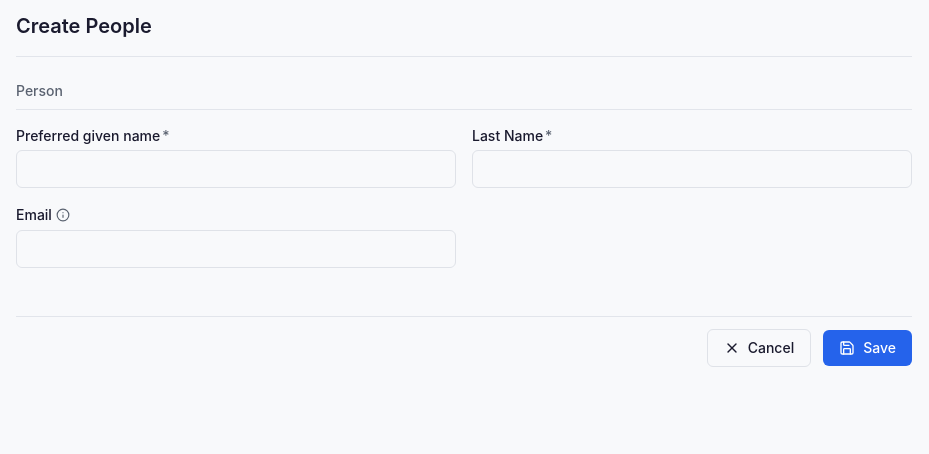
Create and base edit use full metadata and actual write contracts › retains the populated form after a failed save without an unhandled rejection
In the field labelled "Preferred given name*": (236, 169) [16,150,456,188], type "Keep input"
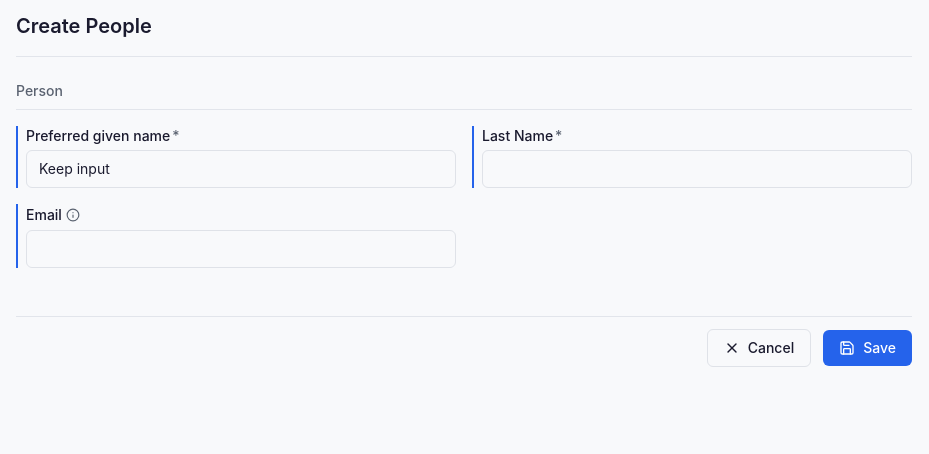
In the field labelled "Last Name*": (697, 169) [482,150,912,188], type "Sample"
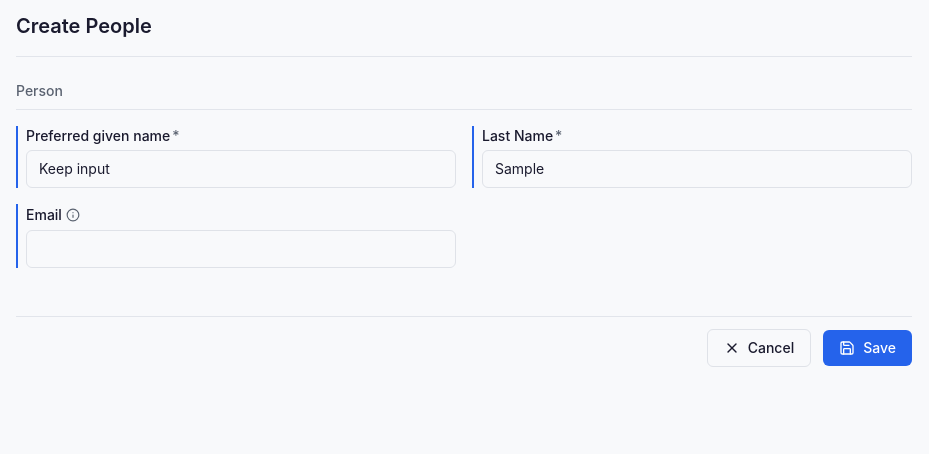
Click the button "Save": (868, 348) [823,330,912,366]
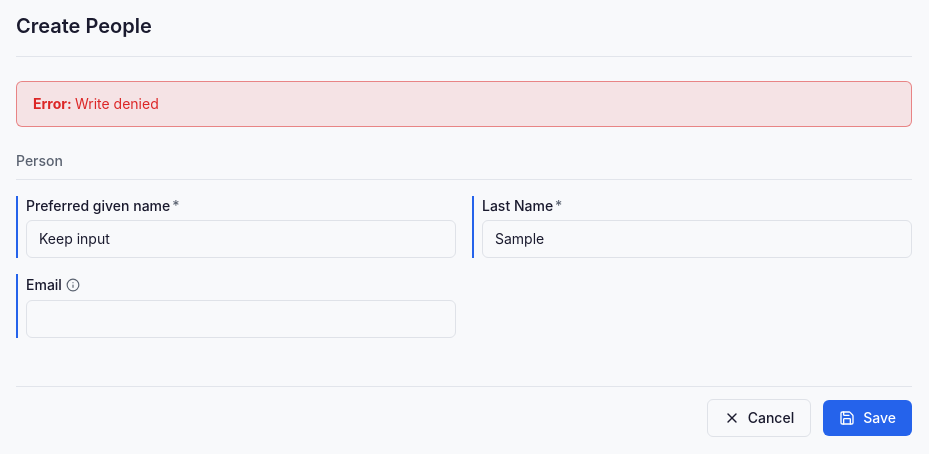
Expected: the button "Save" is enabled, [823,400,912,436]
Expected: the message shows "Write denied", [75,95,159,112]
